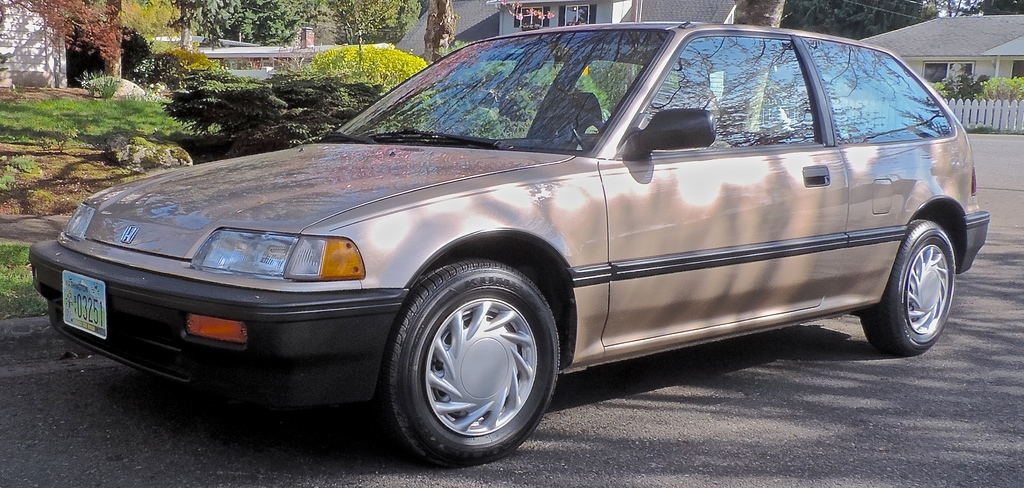Tree: (0, 0, 461, 65), (786, 0, 1024, 38)
